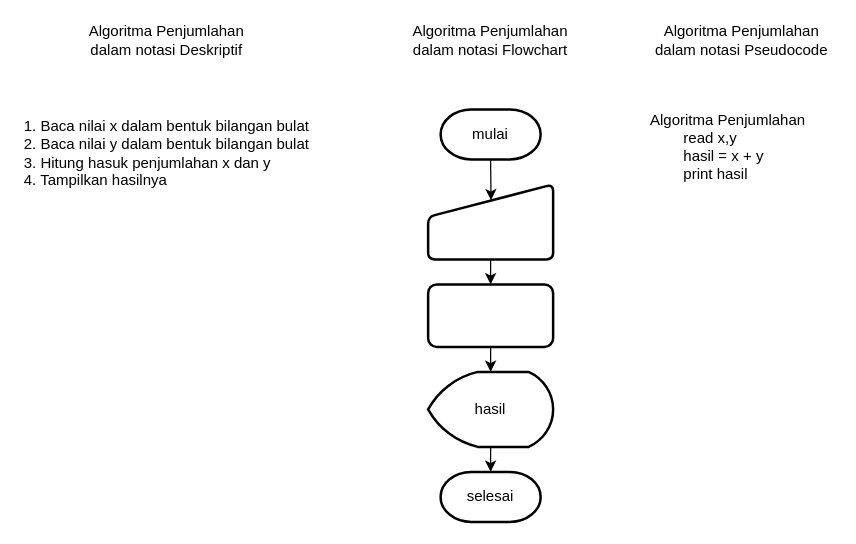
Some shapes in this 856 by 544 pixel diagram are drawn without their labels. The centre of each missing label's shape, as x and y in pixels:
hasil = x + y: the point at 490,315
x, y: the point at 490,221
